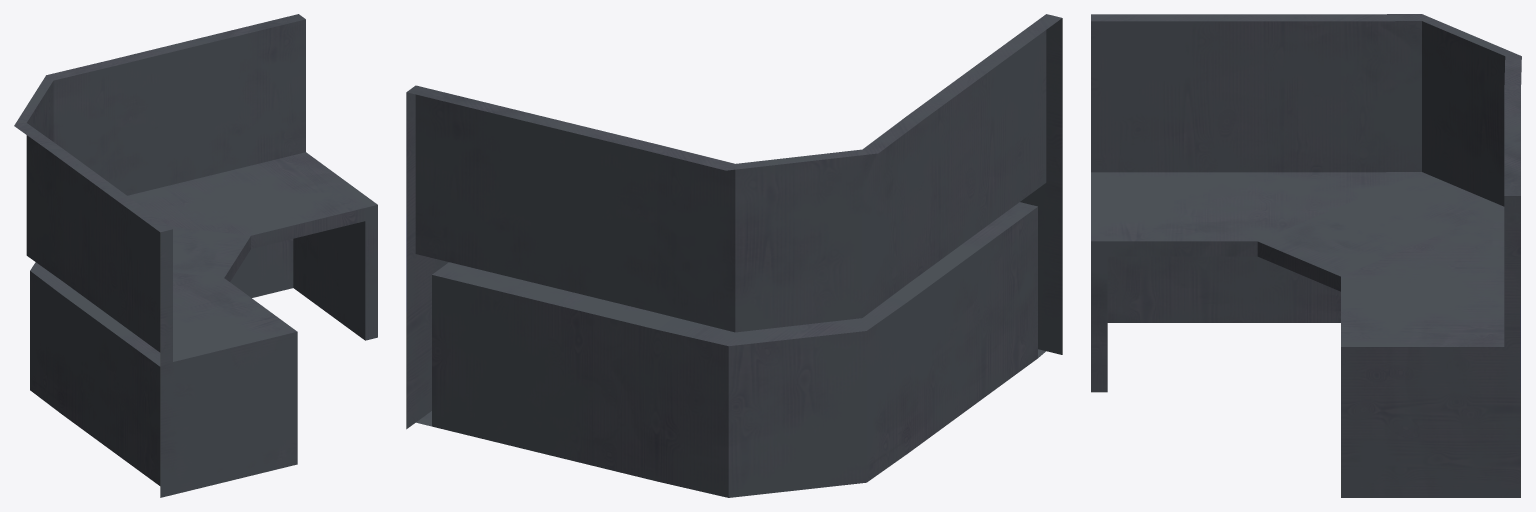
Rendered from Office_Desk_Office_A.fbx.
The picture shows the model from 3 angles, left to right: view 1: azimuth 30°, elevation 25°; view 2: azimuth 150°, elevation 25°; view 3: azimuth 270°, elevation 25°; orthographic projection. The views are drawn at different scales.
Visible parts, largest first — view 1: OfficeDesk.001; view 2: OfficeDesk.001; view 3: OfficeDesk.001.
Boxes of the visible parts, left/top/right/bottom form: OfficeDesk.001: left=14, top=14, right=377, bottom=497; OfficeDesk.001: left=406, top=14, right=1062, bottom=497; OfficeDesk.001: left=1091, top=14, right=1521, bottom=497.
Size of the model in its own units: 259 by 200 by 259.
